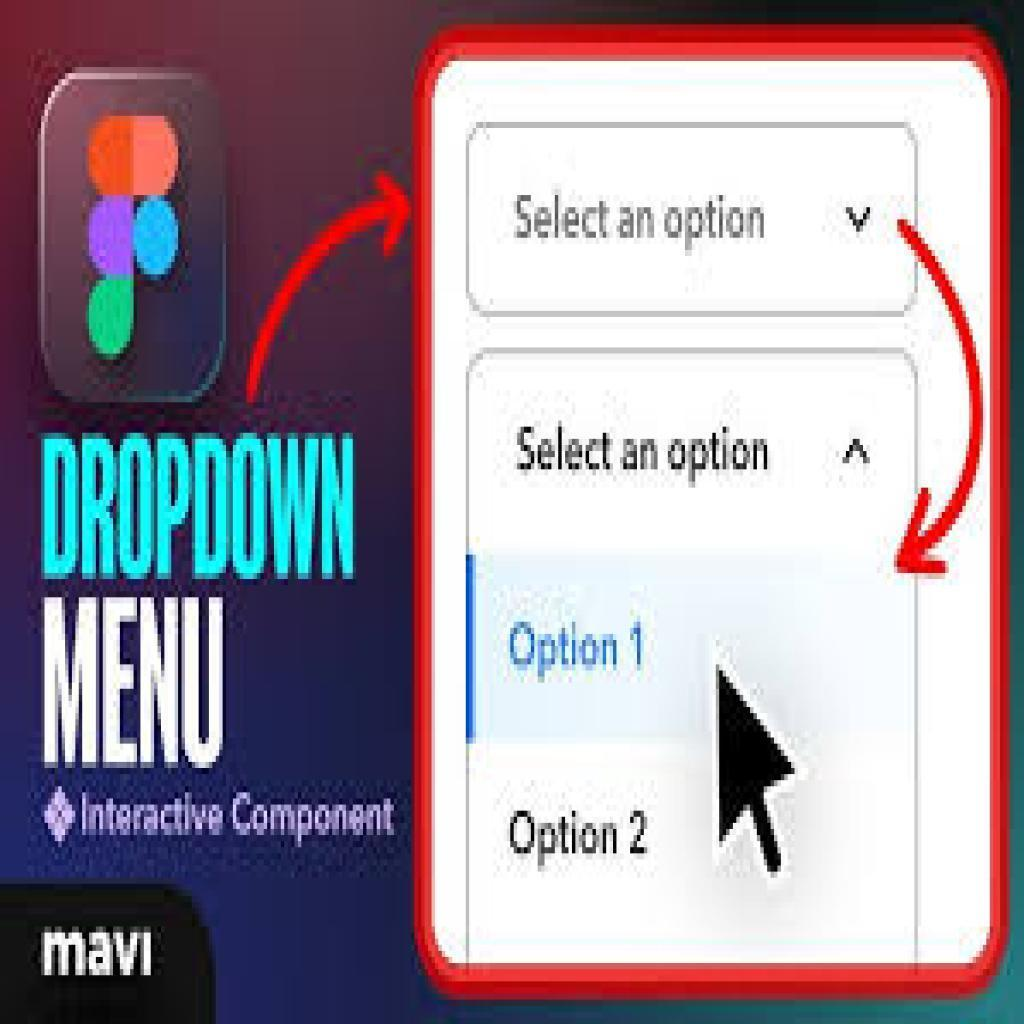dropdown: (470, 121, 919, 319)
